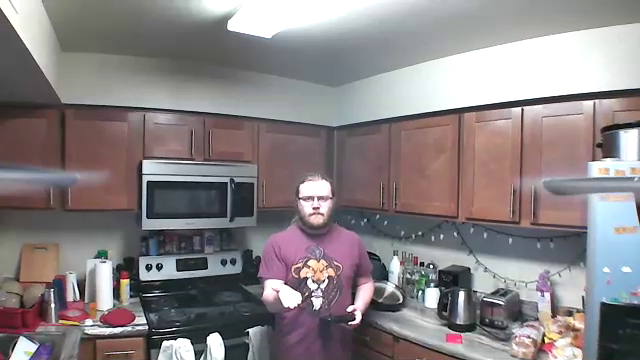land: (269, 280, 303, 310)
